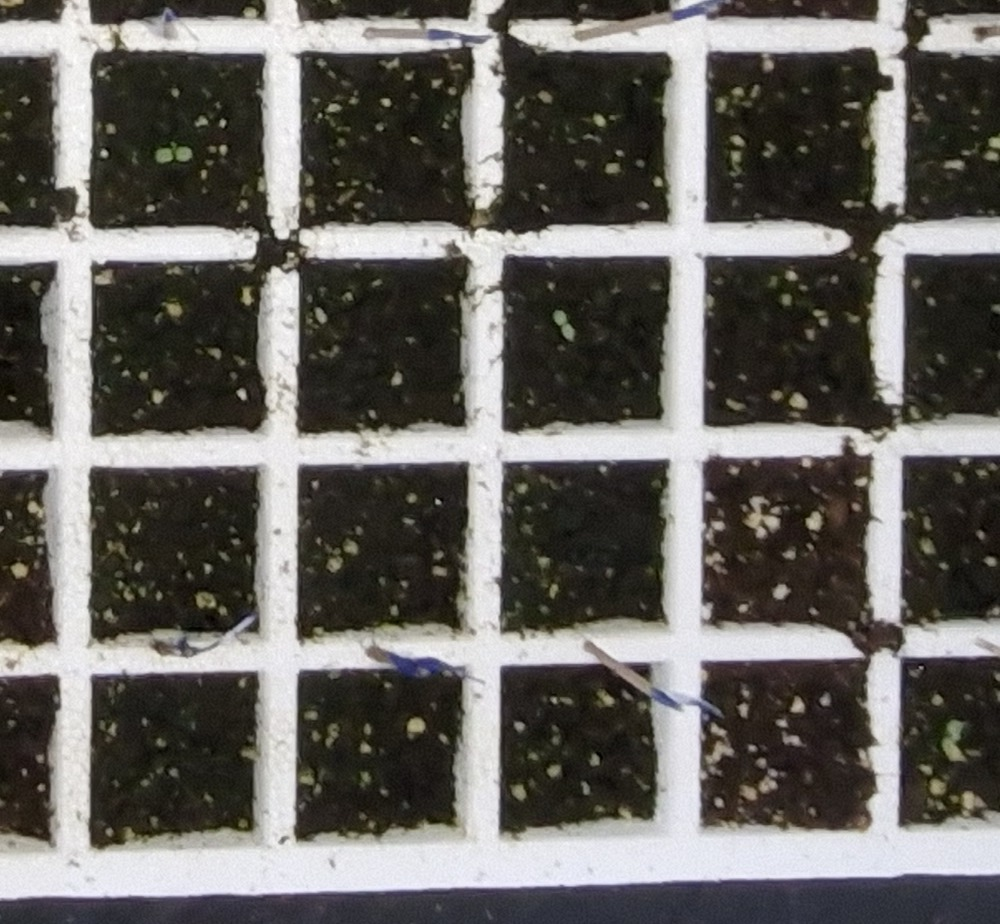Folha: (177, 147, 193, 162), (156, 148, 173, 162), (553, 311, 567, 326), (562, 323, 574, 340), (943, 735, 955, 751), (949, 721, 962, 734)
Germinacao: (155, 140, 192, 164), (942, 718, 965, 756), (553, 310, 574, 341)
